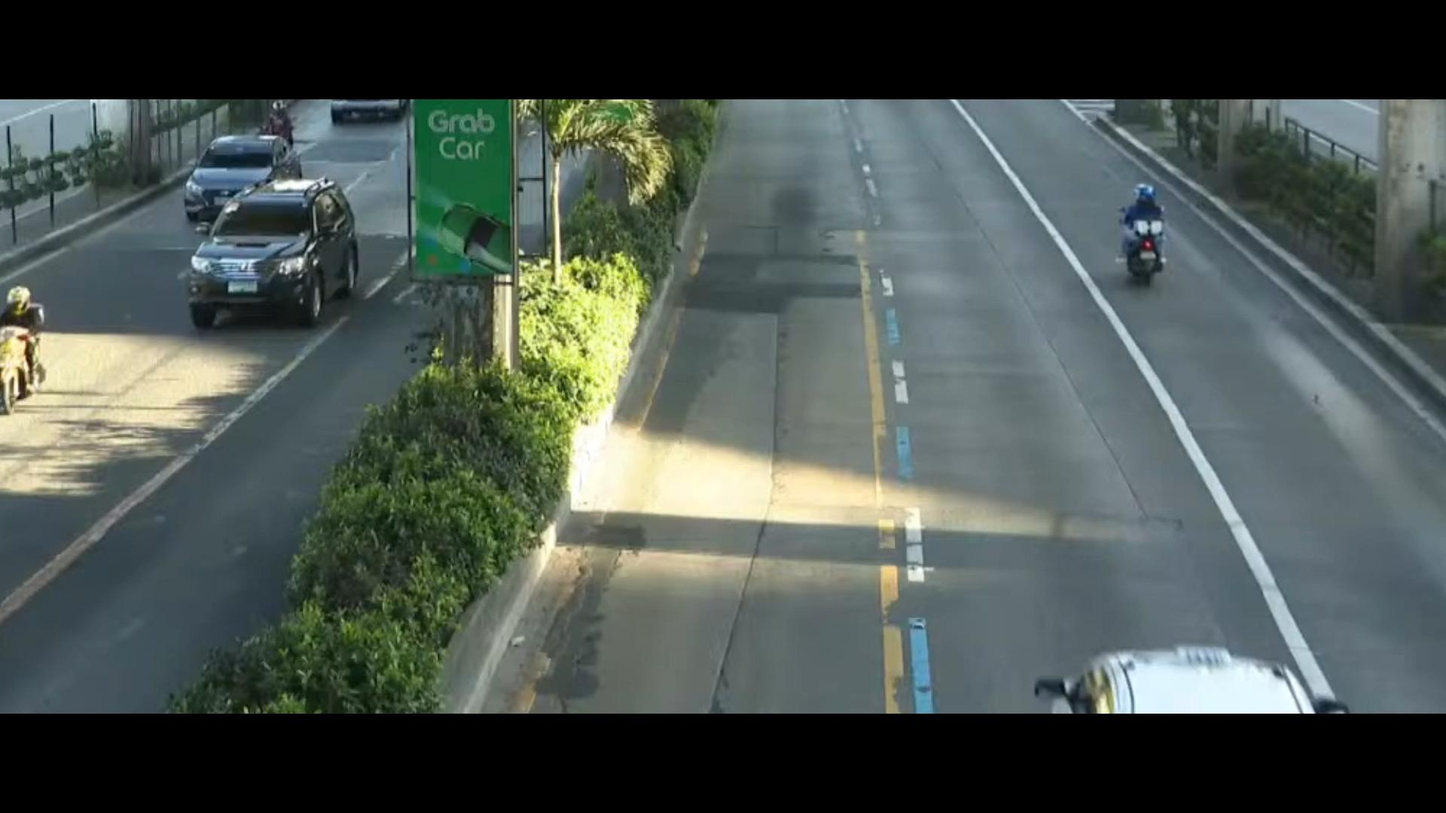Motorcycle: (1094, 166, 1207, 303), (0, 285, 63, 425), (251, 104, 311, 134)
SUV: (188, 177, 366, 342)
Sedan: (177, 123, 305, 203)
